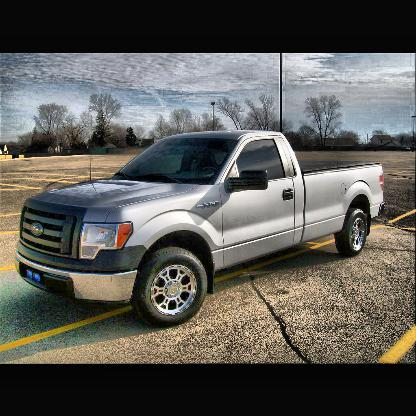Ford F-150 Regular Cab 2012: (14, 129, 386, 331)
